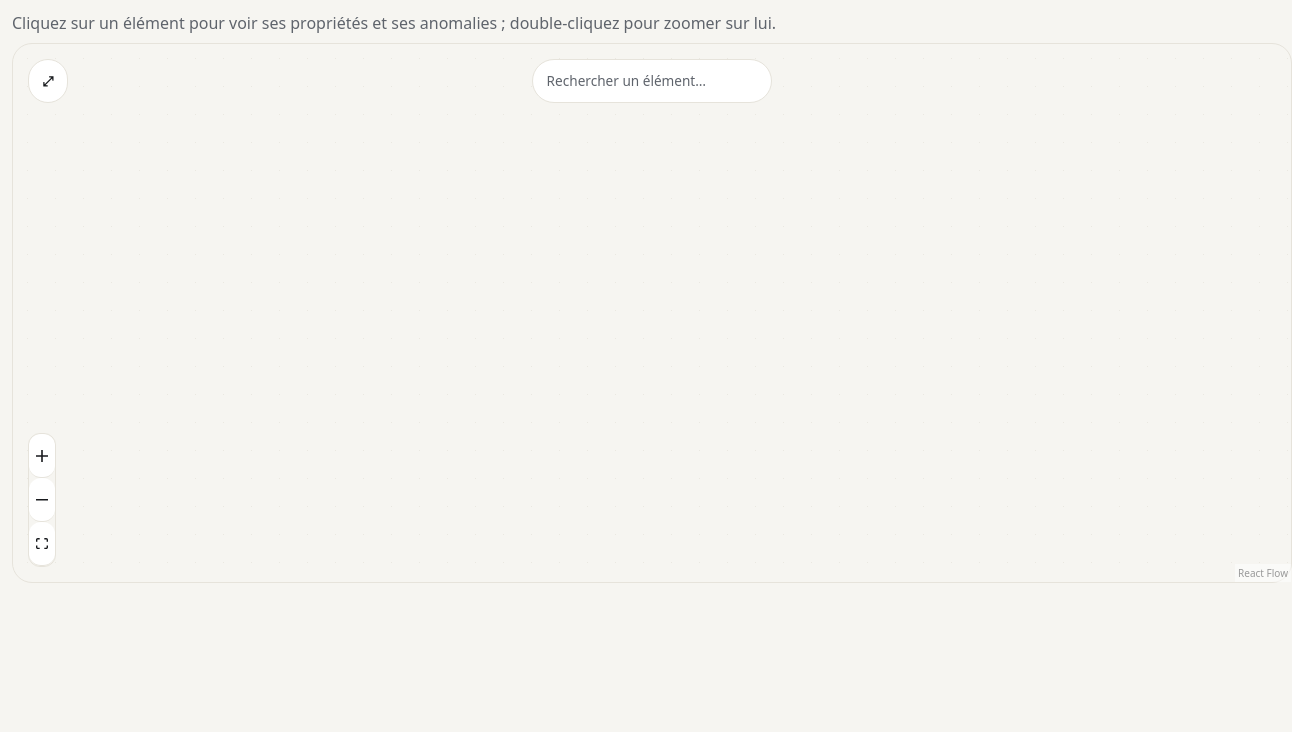
Test: HomeGraph › recherche les éléments de la vue et recadre le dessin sur eux
Type "lave" into the field labelled "Rechercher un élément…". click: (652, 81)
box: top-left (532, 59), bottom-right (772, 103)
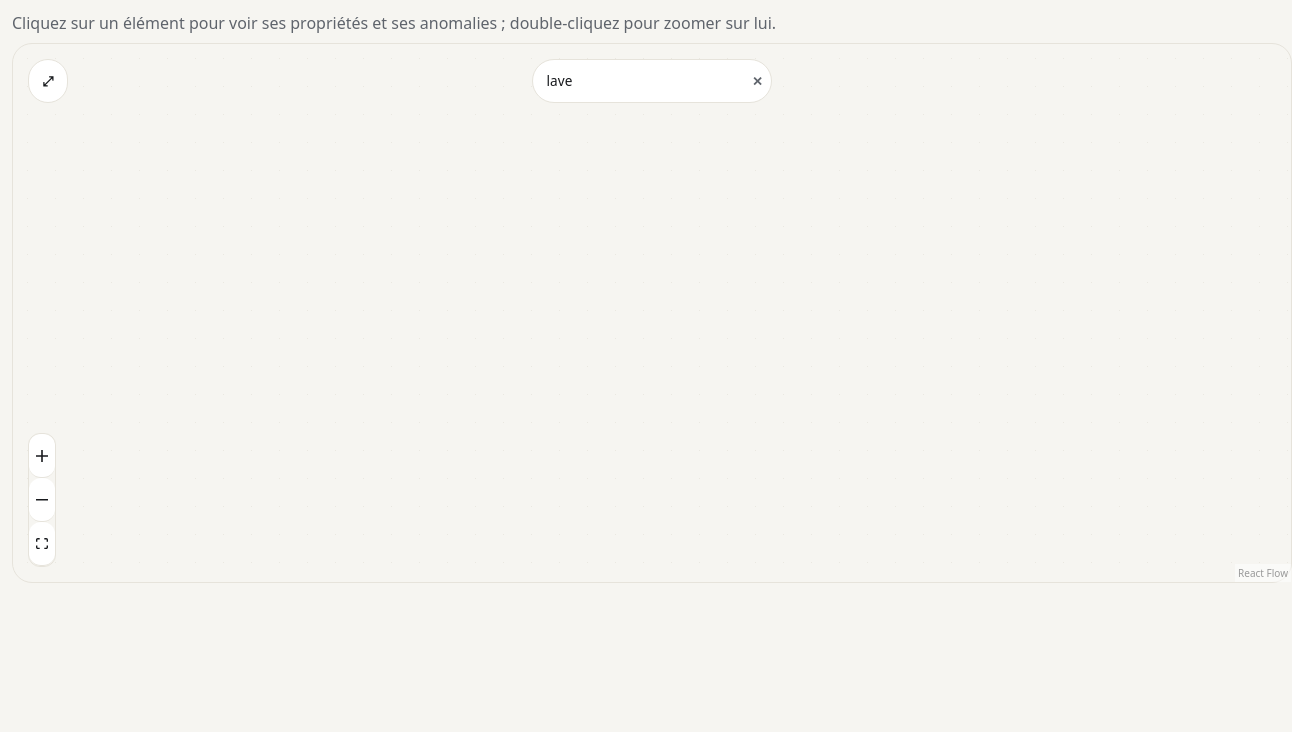
Replace the text in the field named "Rechercher un élément…" with "zzz". click: (652, 81)
box: top-left (532, 59), bottom-right (772, 103)
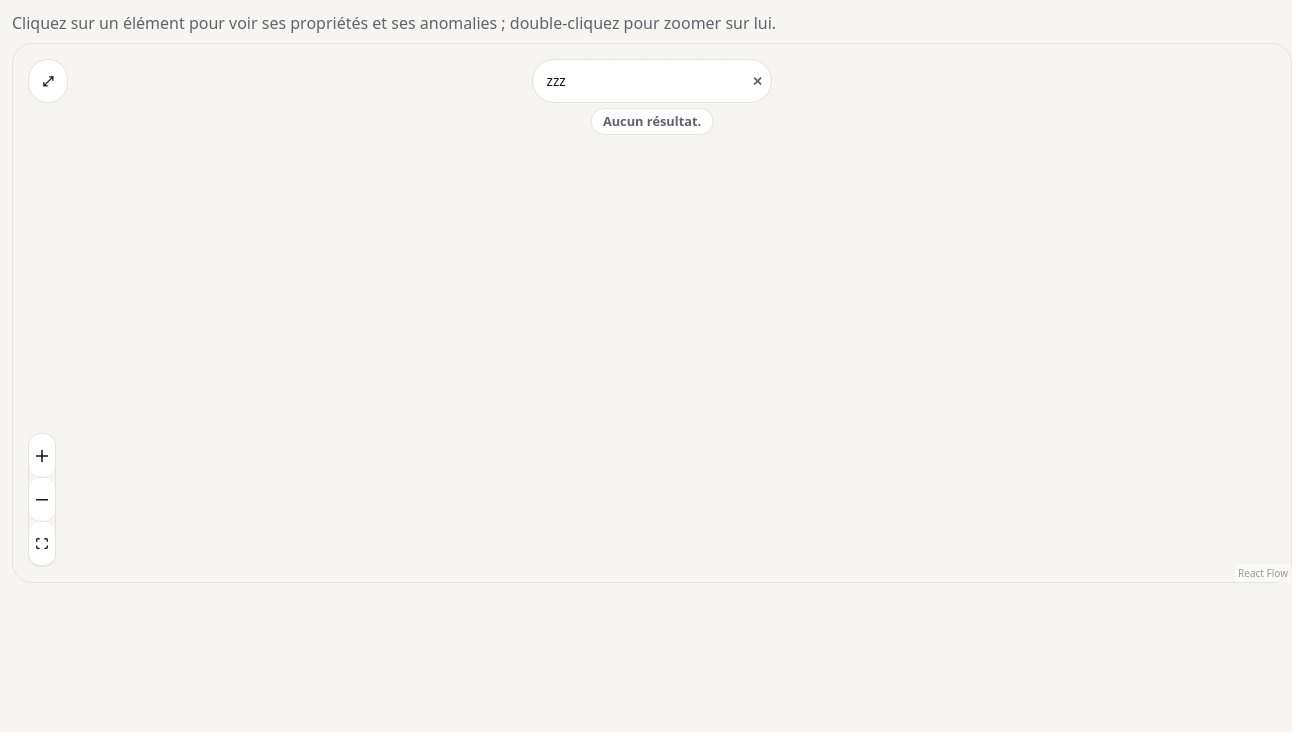
Expected: the message "Aucun résultat." is shown, top-left (591, 108), bottom-right (713, 135)
Click the button named "Effacer la recherche". click: click(752, 81)
box: top-left (738, 59), bottom-right (766, 103)
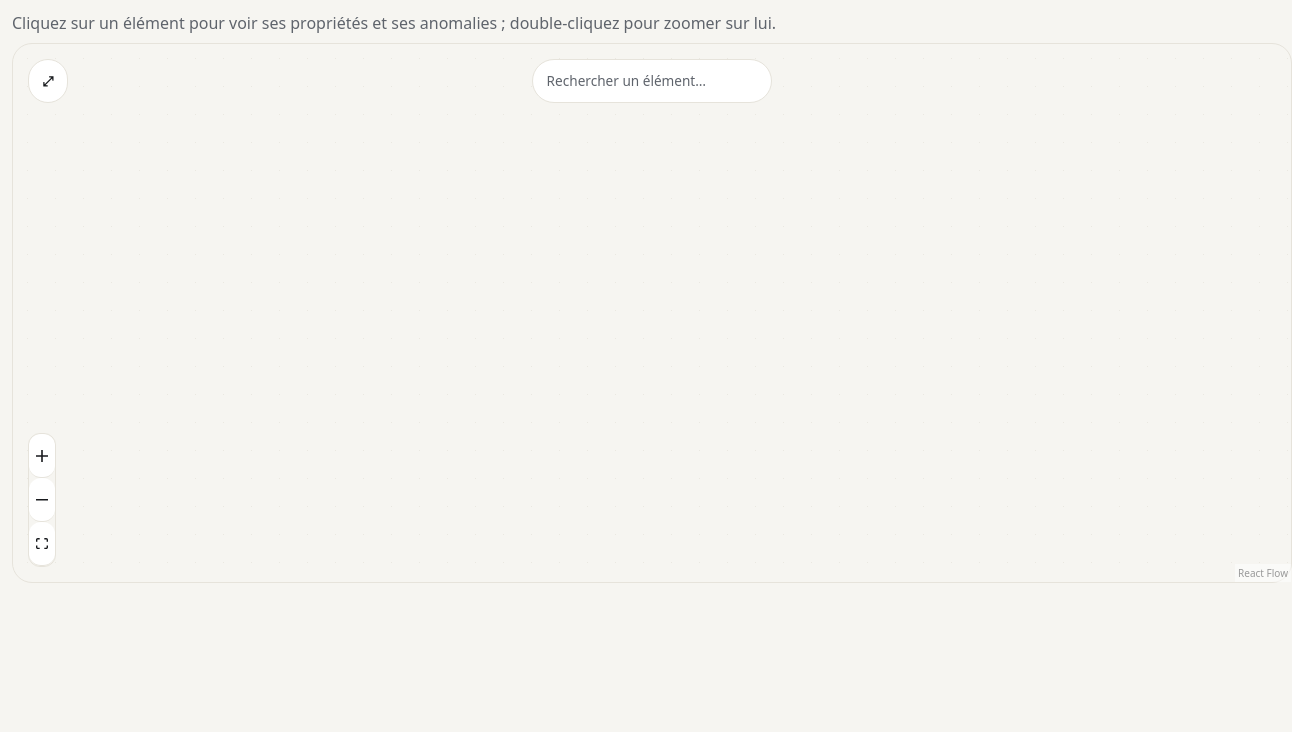
Expected: the field labelled "Rechercher un élément…" is empty, top-left (532, 59), bottom-right (772, 103)
